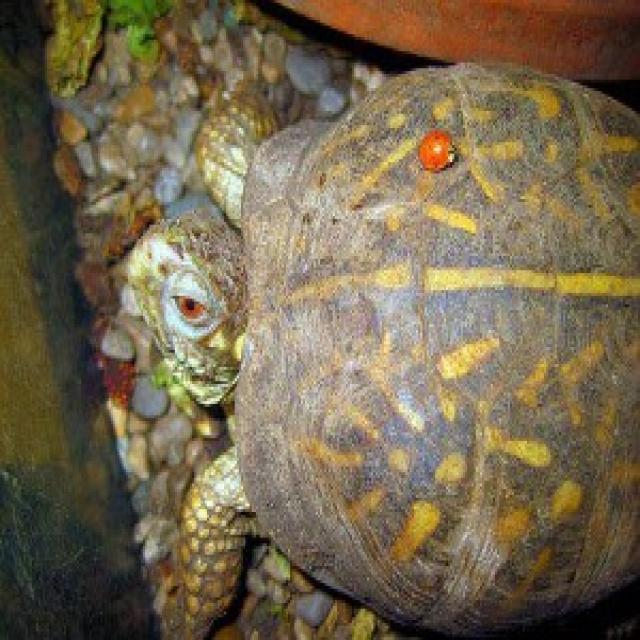Sea turtle: (85, 55, 640, 611)
